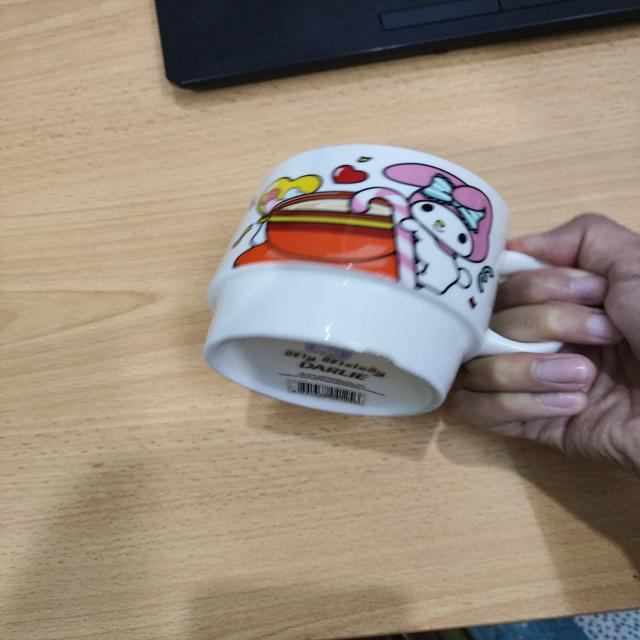cup: (166, 124, 590, 448)
